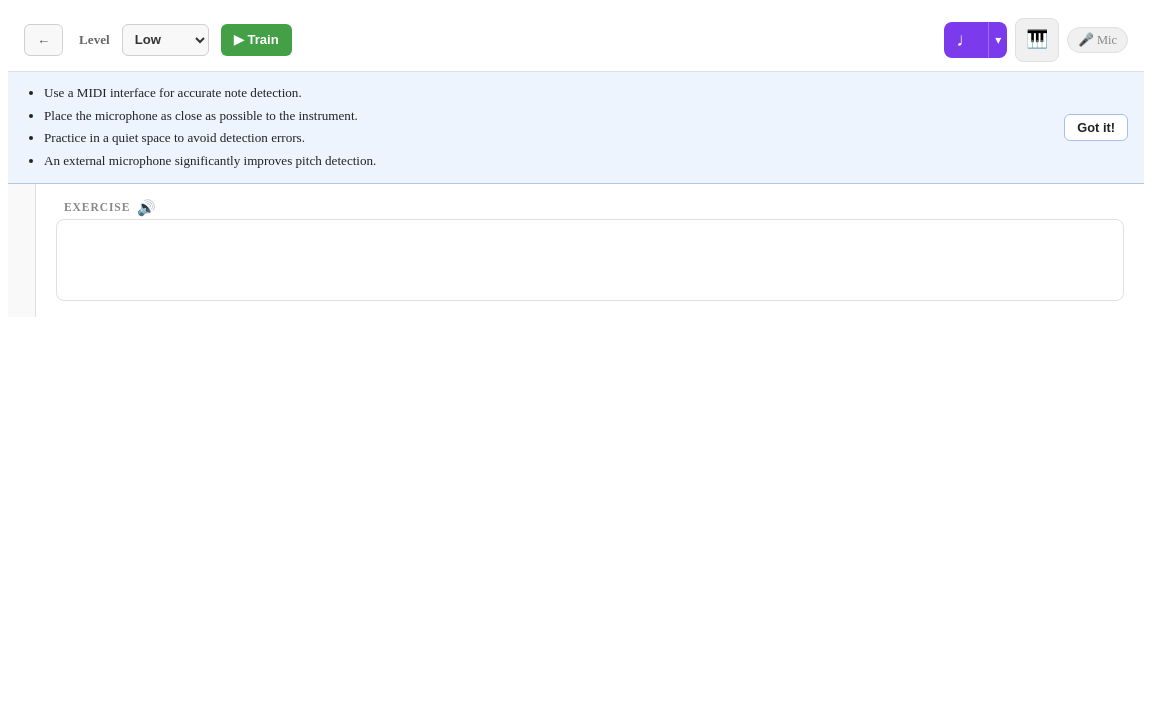
TrainPlugin — step mode MIDI debounce skip (Issue #2) › wrong MIDI note for slot 1 is processed immediately after slot 0 advances — no 700 ms wait
This screenshot has width=1152, height=720.
# Start the step-mode exercise
Click the button with test id "train-play-btn" at (256, 40), box [221,24,292,56]
Wait 900 ms
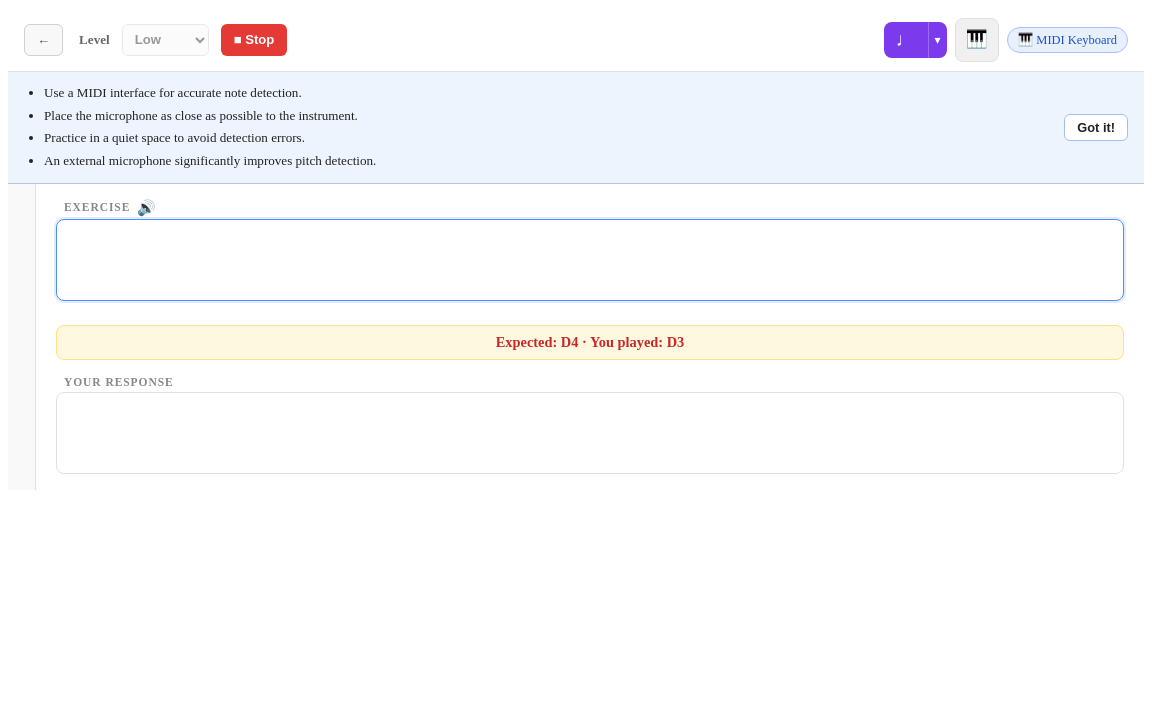
Expected: the message "Expected: D4 · You played: D3" is shown, [56,325,1124,360]
Expected: the message shows "D4", [496,334,684,350]
